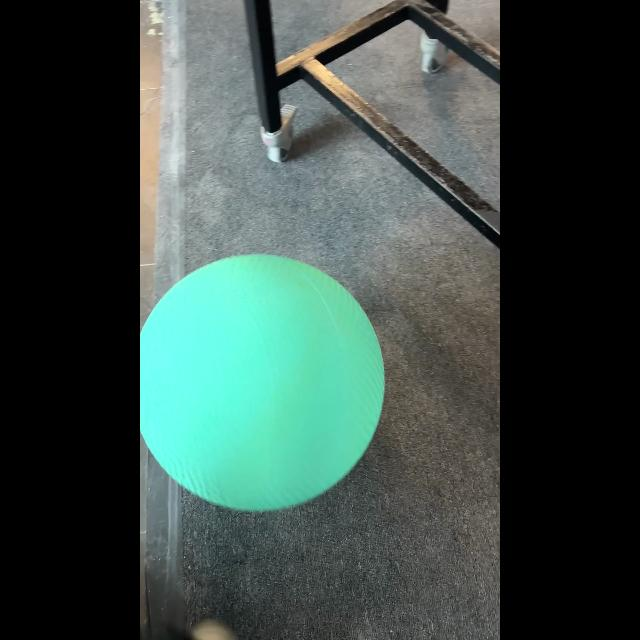ALGAE: (140, 252, 386, 512)
